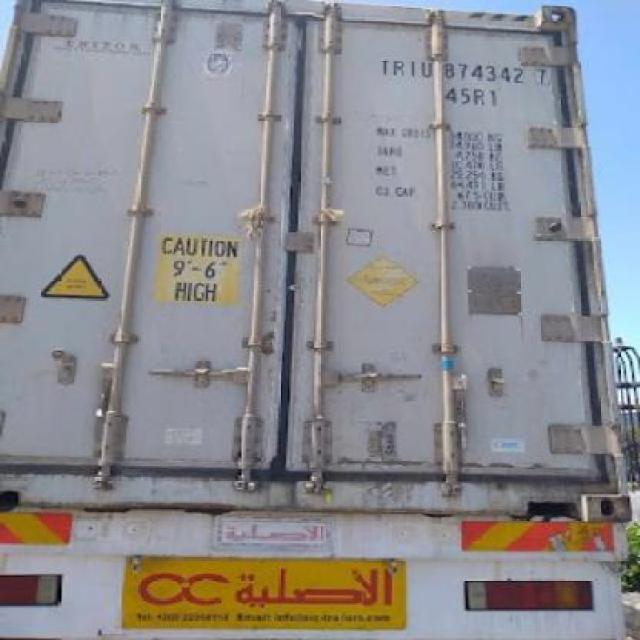ISO: (446, 86, 499, 108)
container_number: (383, 63, 541, 82)
